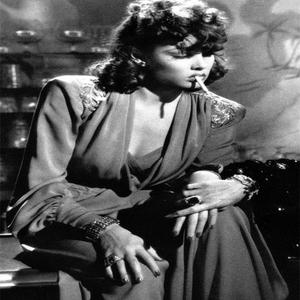cigarette: (195, 75, 215, 100)
